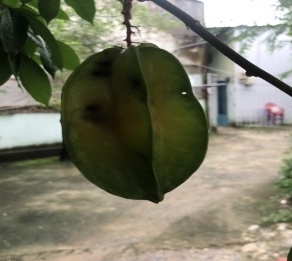Khe: (61, 39, 212, 205)
